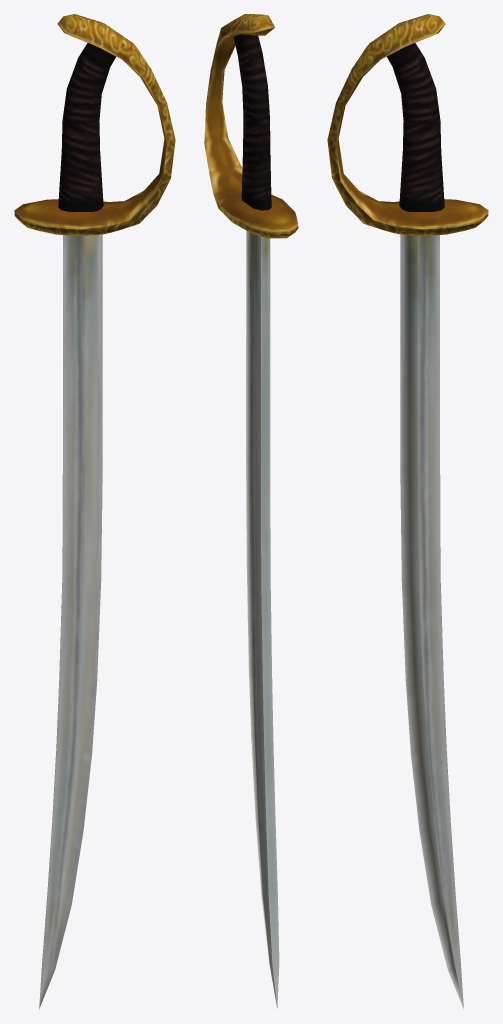
File: sabel.fbx
3 views of the same model, side by side, from view 1: azimuth 90°, elevation 25°; view 2: azimuth 210°, elevation 25°; view 3: azimuth 270°, elevation 25° (orthographic).
Parts seen in each view (by area): view 1: sabel; view 2: sabel; view 3: sabel.
Boxes of the visible parts, left/top/right/bottom form: sabel: left=14, top=14, right=175, bottom=1009; sabel: left=204, top=14, right=298, bottom=1008; sabel: left=327, top=14, right=488, bottom=1009.
Bounding box in the file's own units: 6.45 × 112 × 16.43.
